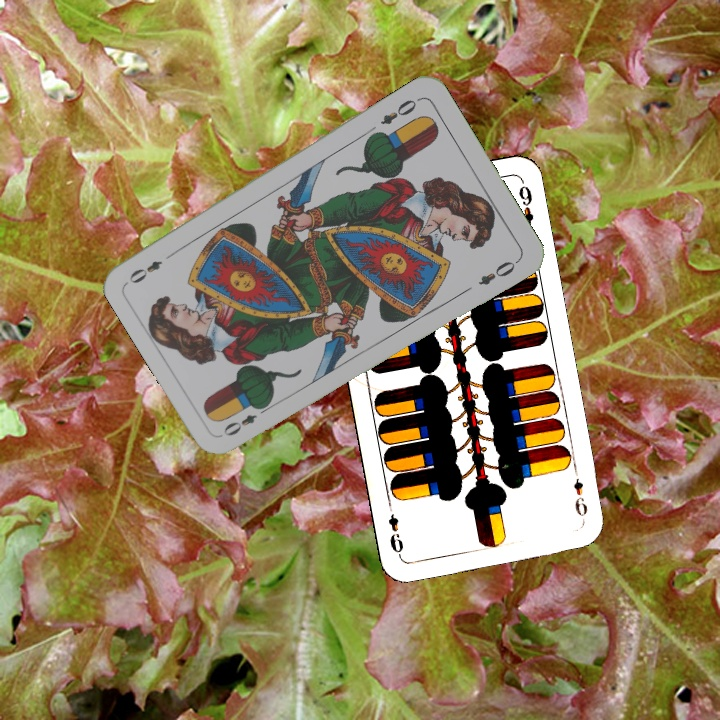E9: (569, 474, 590, 523)
EO: (219, 401, 272, 439), (376, 93, 423, 127)
